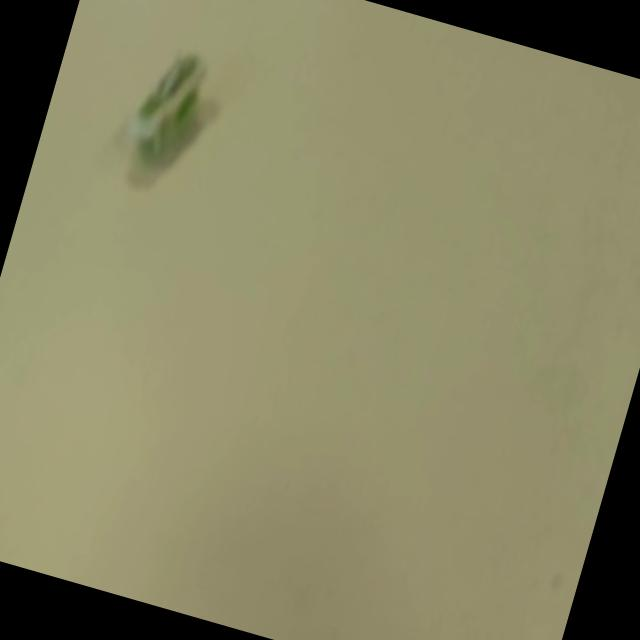4_NanoBug_Blanco: (89, 15, 262, 204)
